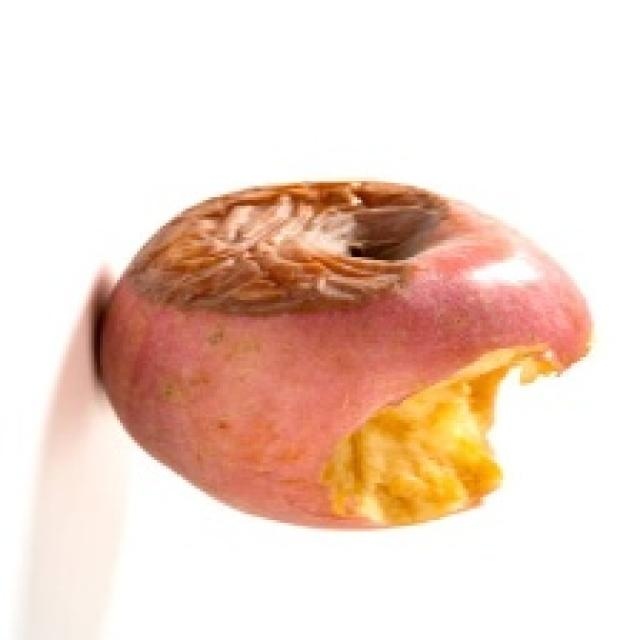rotten_apple: (107, 188, 587, 524)
